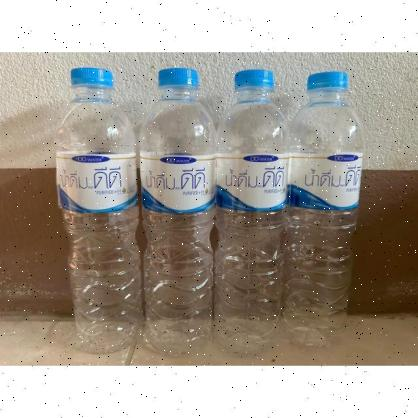bottle: (136, 67, 217, 355), (58, 67, 138, 352), (288, 68, 364, 351), (217, 67, 288, 356)
cap: (304, 71, 350, 95), (70, 68, 114, 89), (234, 70, 275, 92), (158, 68, 199, 89)
label: (58, 150, 136, 212), (139, 150, 214, 212), (292, 151, 362, 211), (218, 154, 286, 211)
